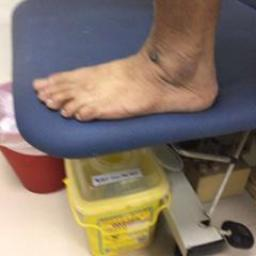Lateral View -Left Foot-: (27, 27, 226, 128)
